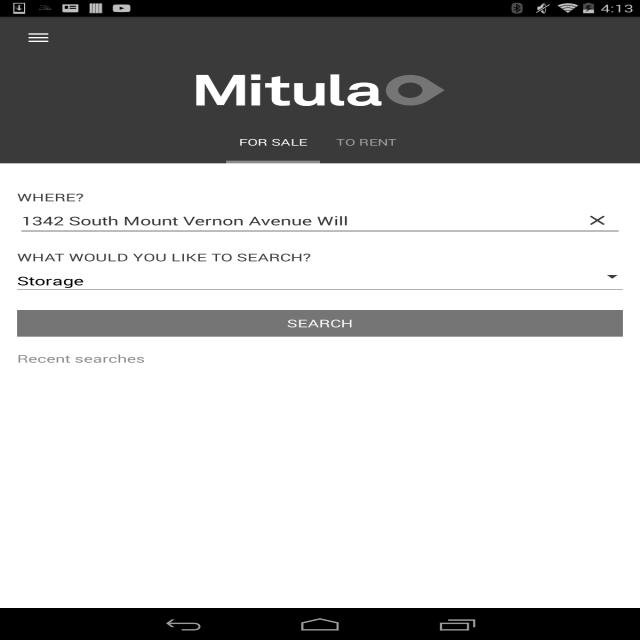Button: (17, 310, 623, 337)
EditText: (17, 204, 623, 237)
ImageButton: (9, 17, 68, 59)
ImageView: (0, 17, 640, 163), (572, 212, 623, 228)
Spinner: (17, 264, 623, 290)
TextView: (17, 272, 606, 290), (17, 237, 312, 264), (17, 337, 145, 380), (17, 177, 84, 204), (239, 136, 307, 148), (336, 136, 397, 148)
